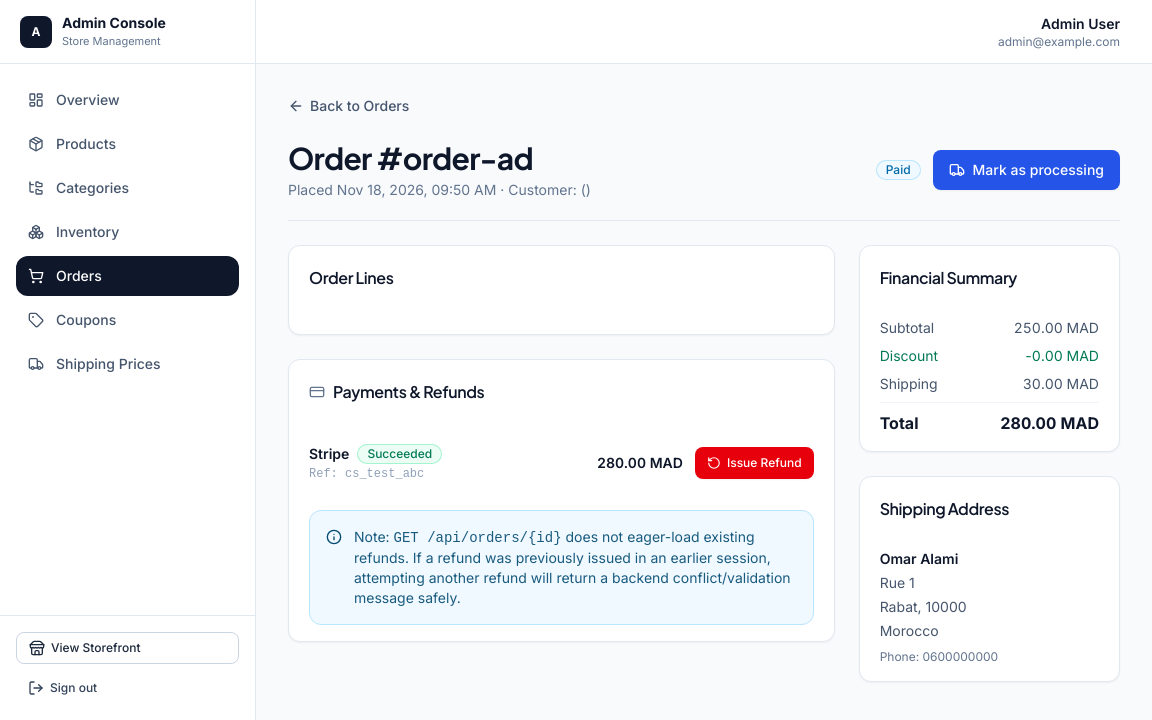
Admin Dashboard Workflows › advances paid order status and issues a Stripe refund
This screenshot has width=1152, height=720.
Click the button "Mark as processing": [1026, 170] box [933,150,1120,190]
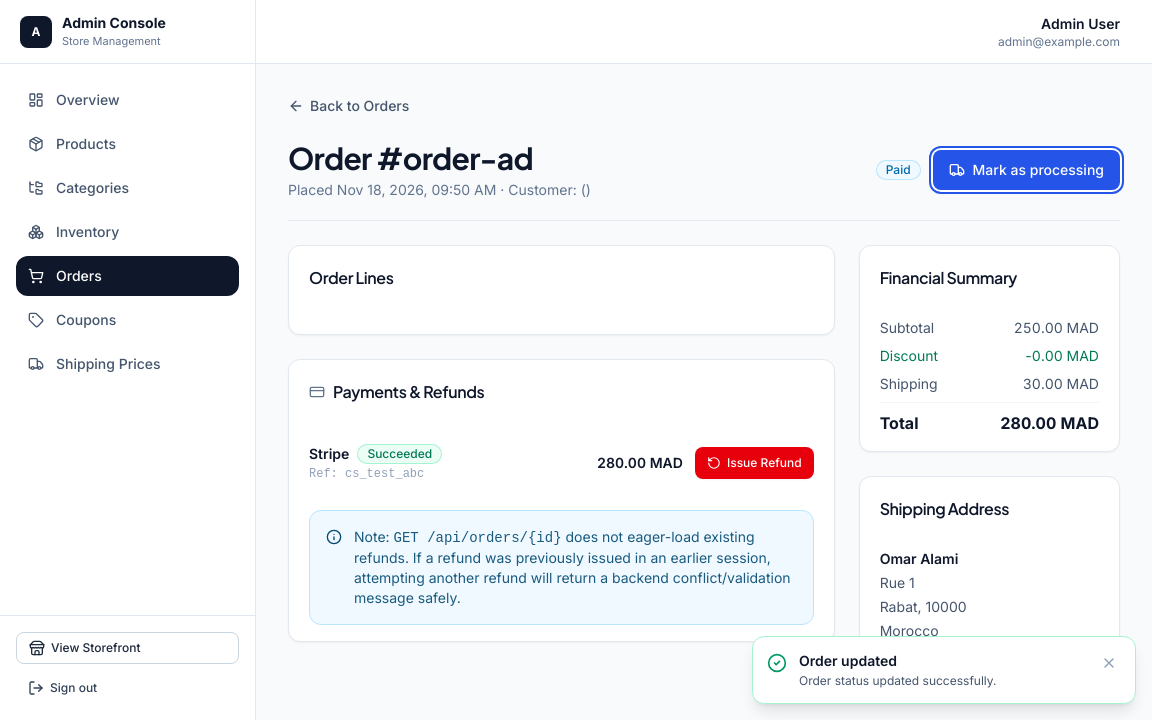
Click the button "Issue Refund": [754, 463] box [695,447,814,479]
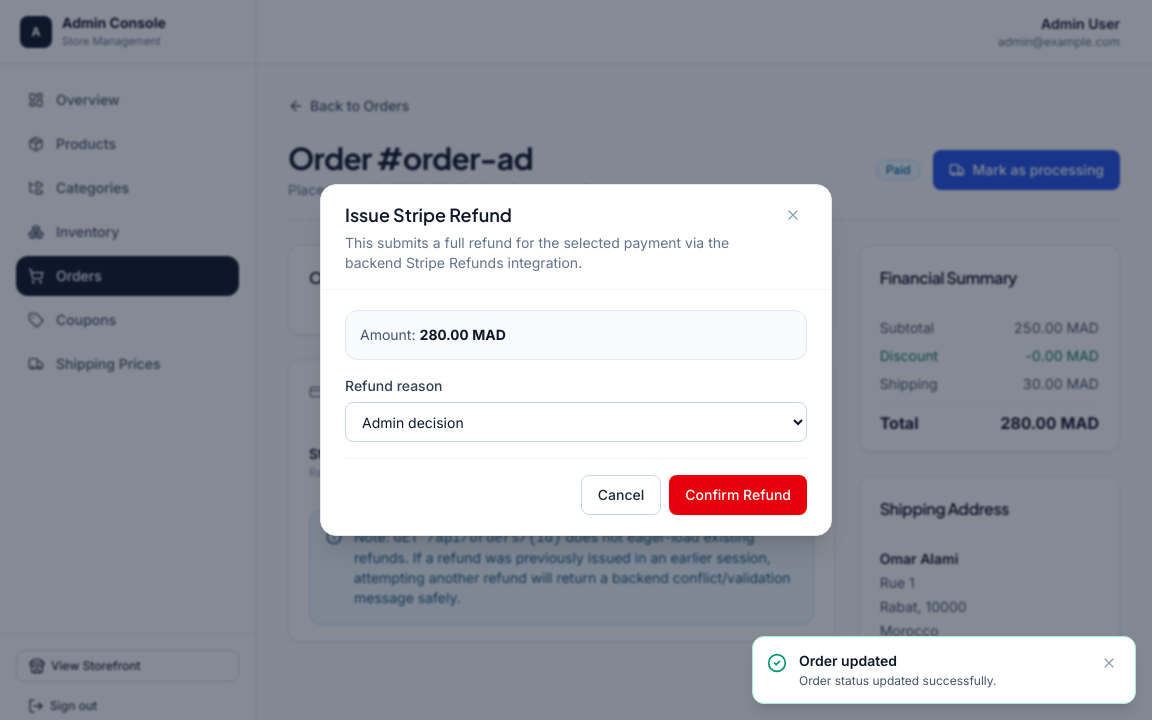
Click the button "Confirm Refund": [738, 495] box [669,475,807,515]
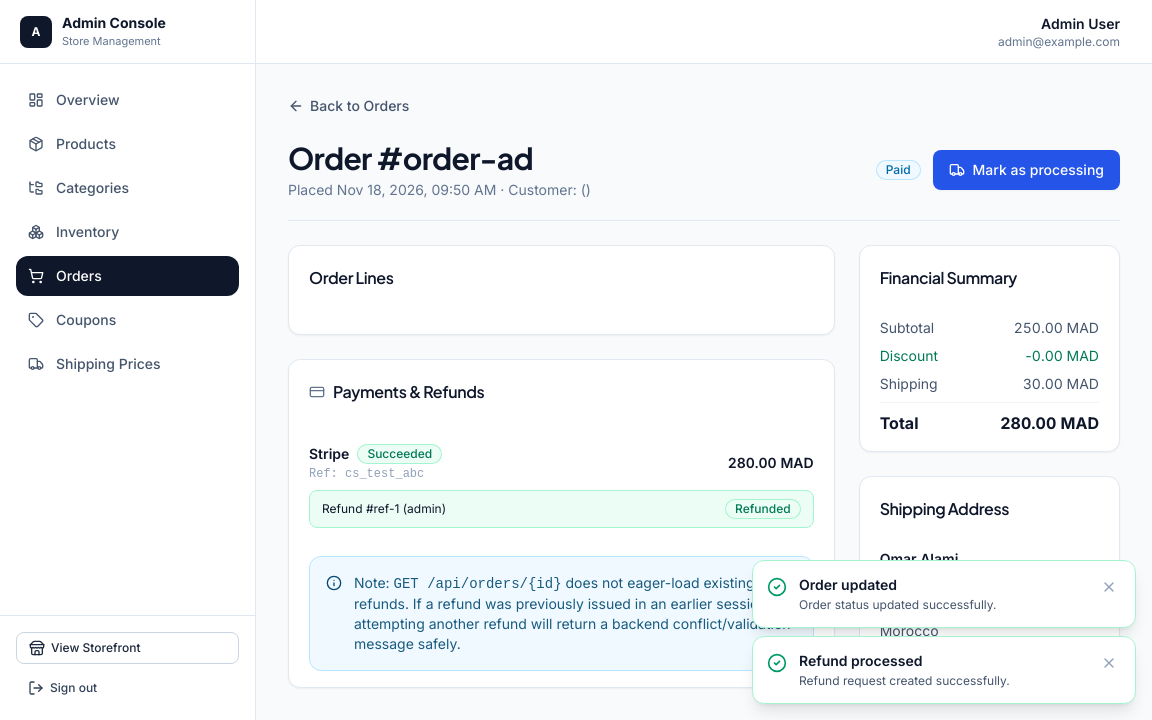
Now the text "Refunded" is shown, box [725,499,801,519]
